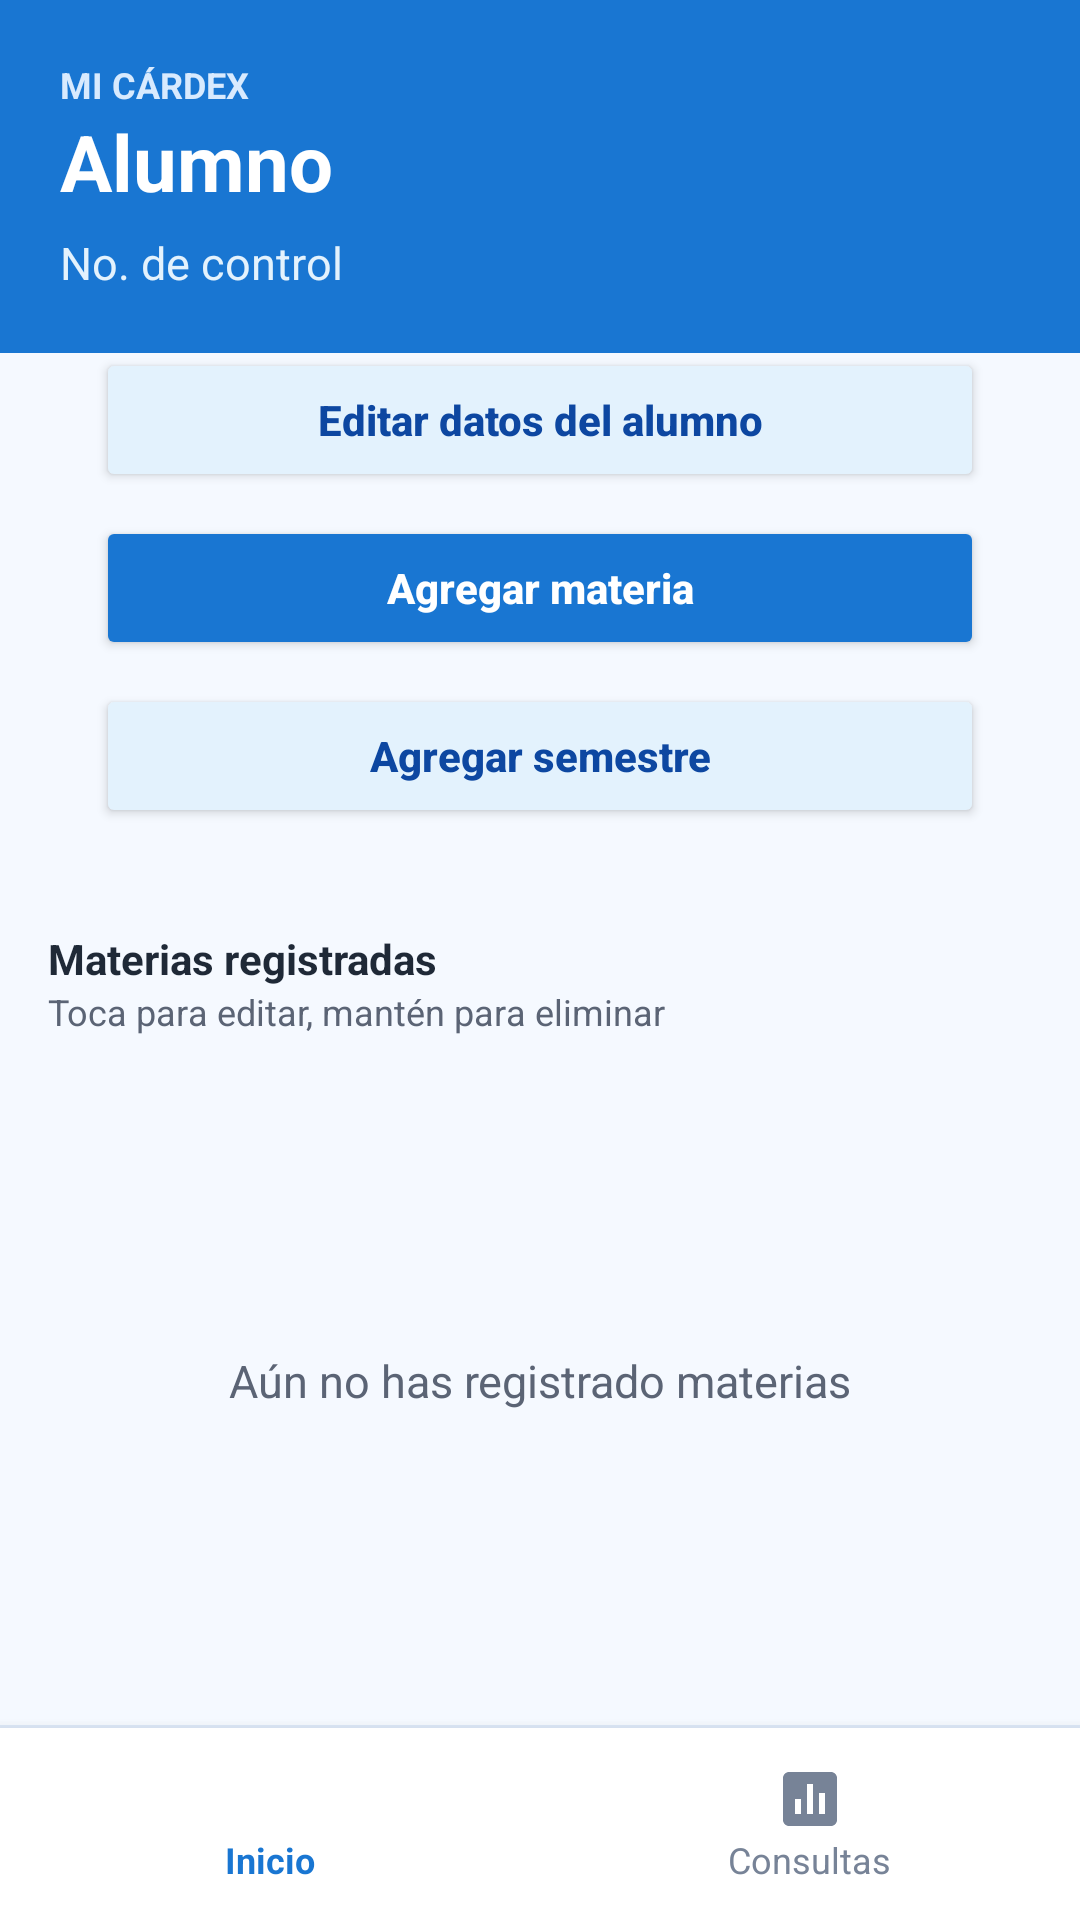

Named icons in this screenshot (1080w x 1920h) and their bounding boxes, (x1, y1, x2, y2):
chart: (783, 1772, 837, 1826)
